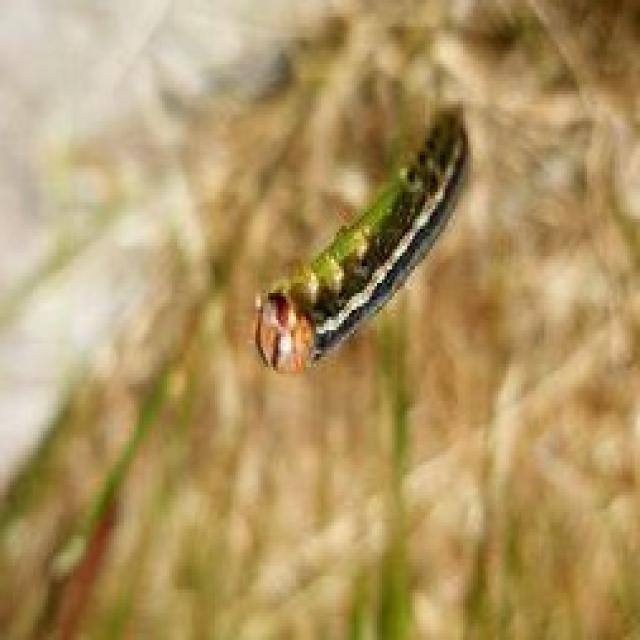army worm: (254, 102, 477, 399)
